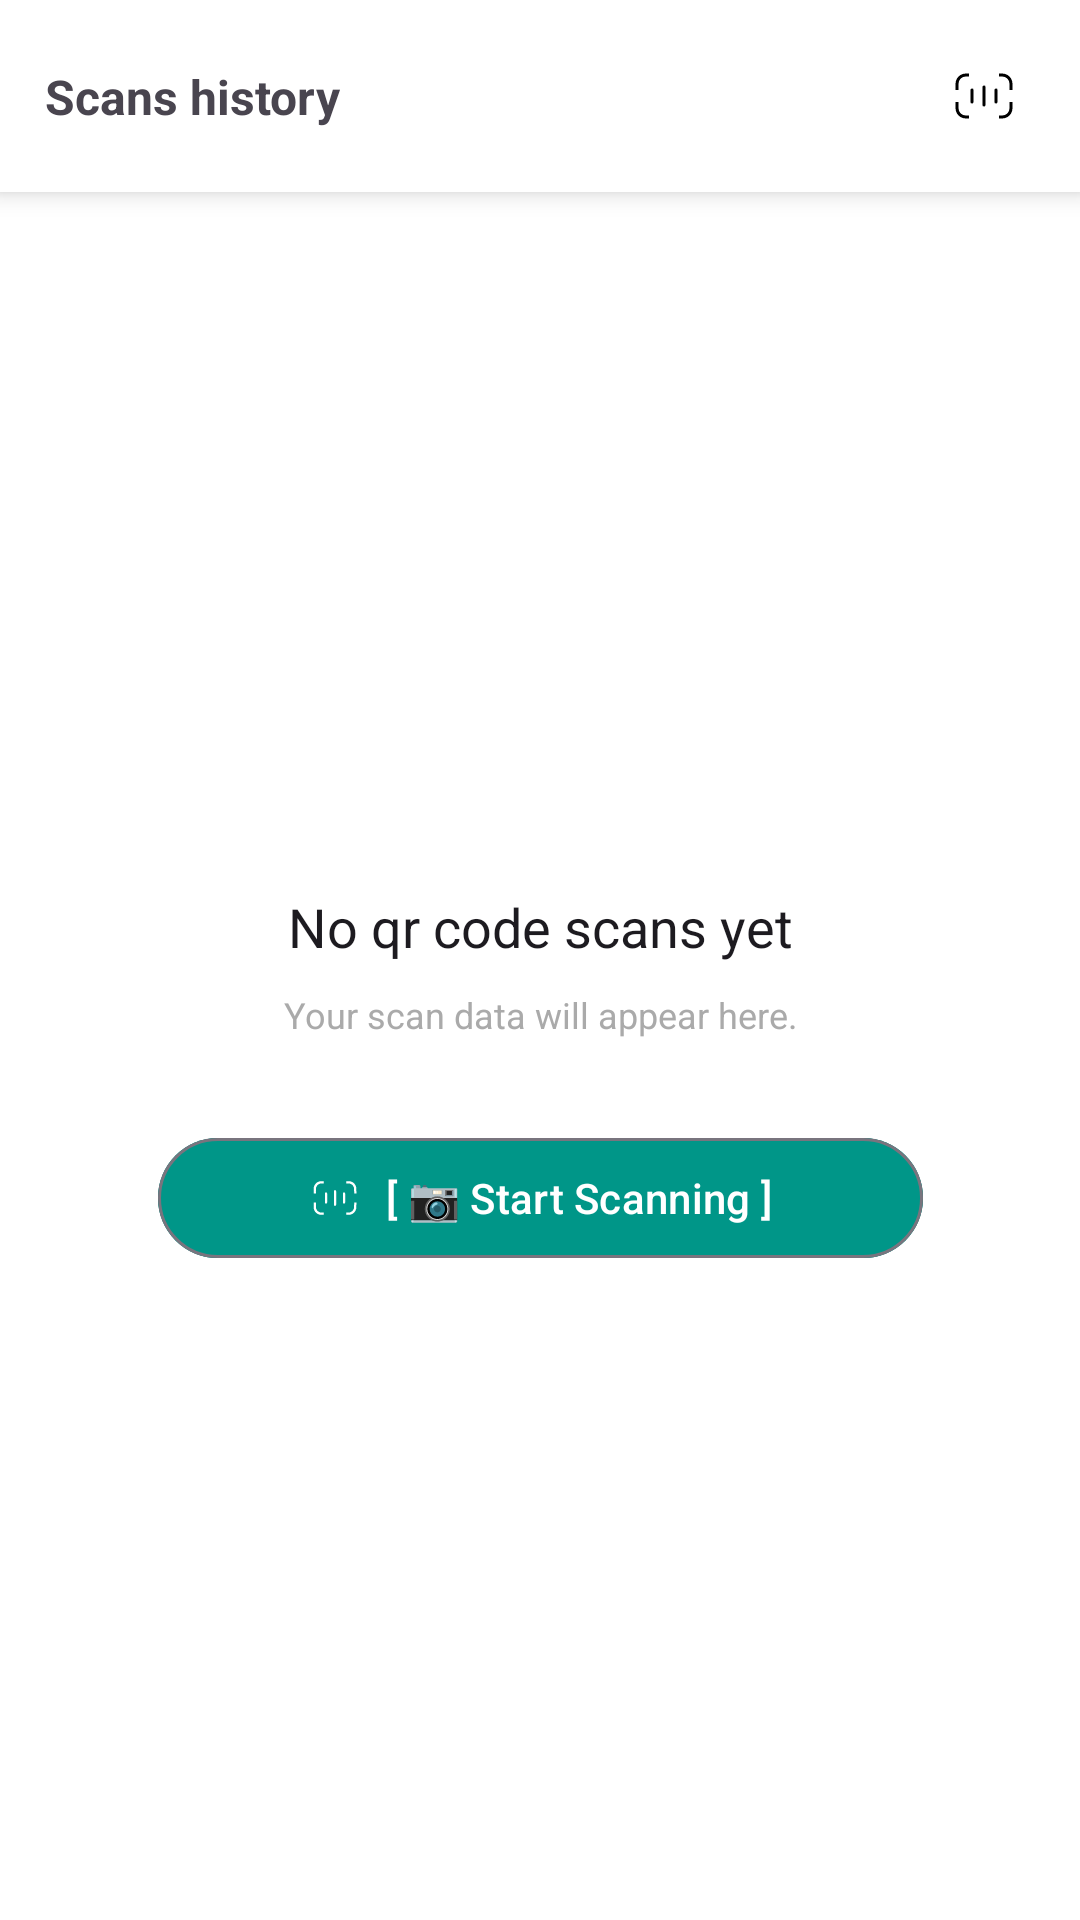

Named icons in this screenshot (1080*1920) and their bounding boxes, (x1, y1, x2, y2):
qr scan: (955, 73, 1013, 119)
